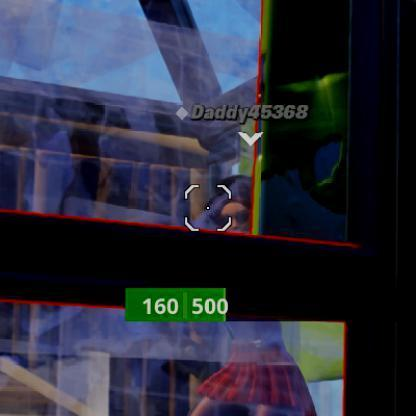person: (198, 185, 306, 415)
